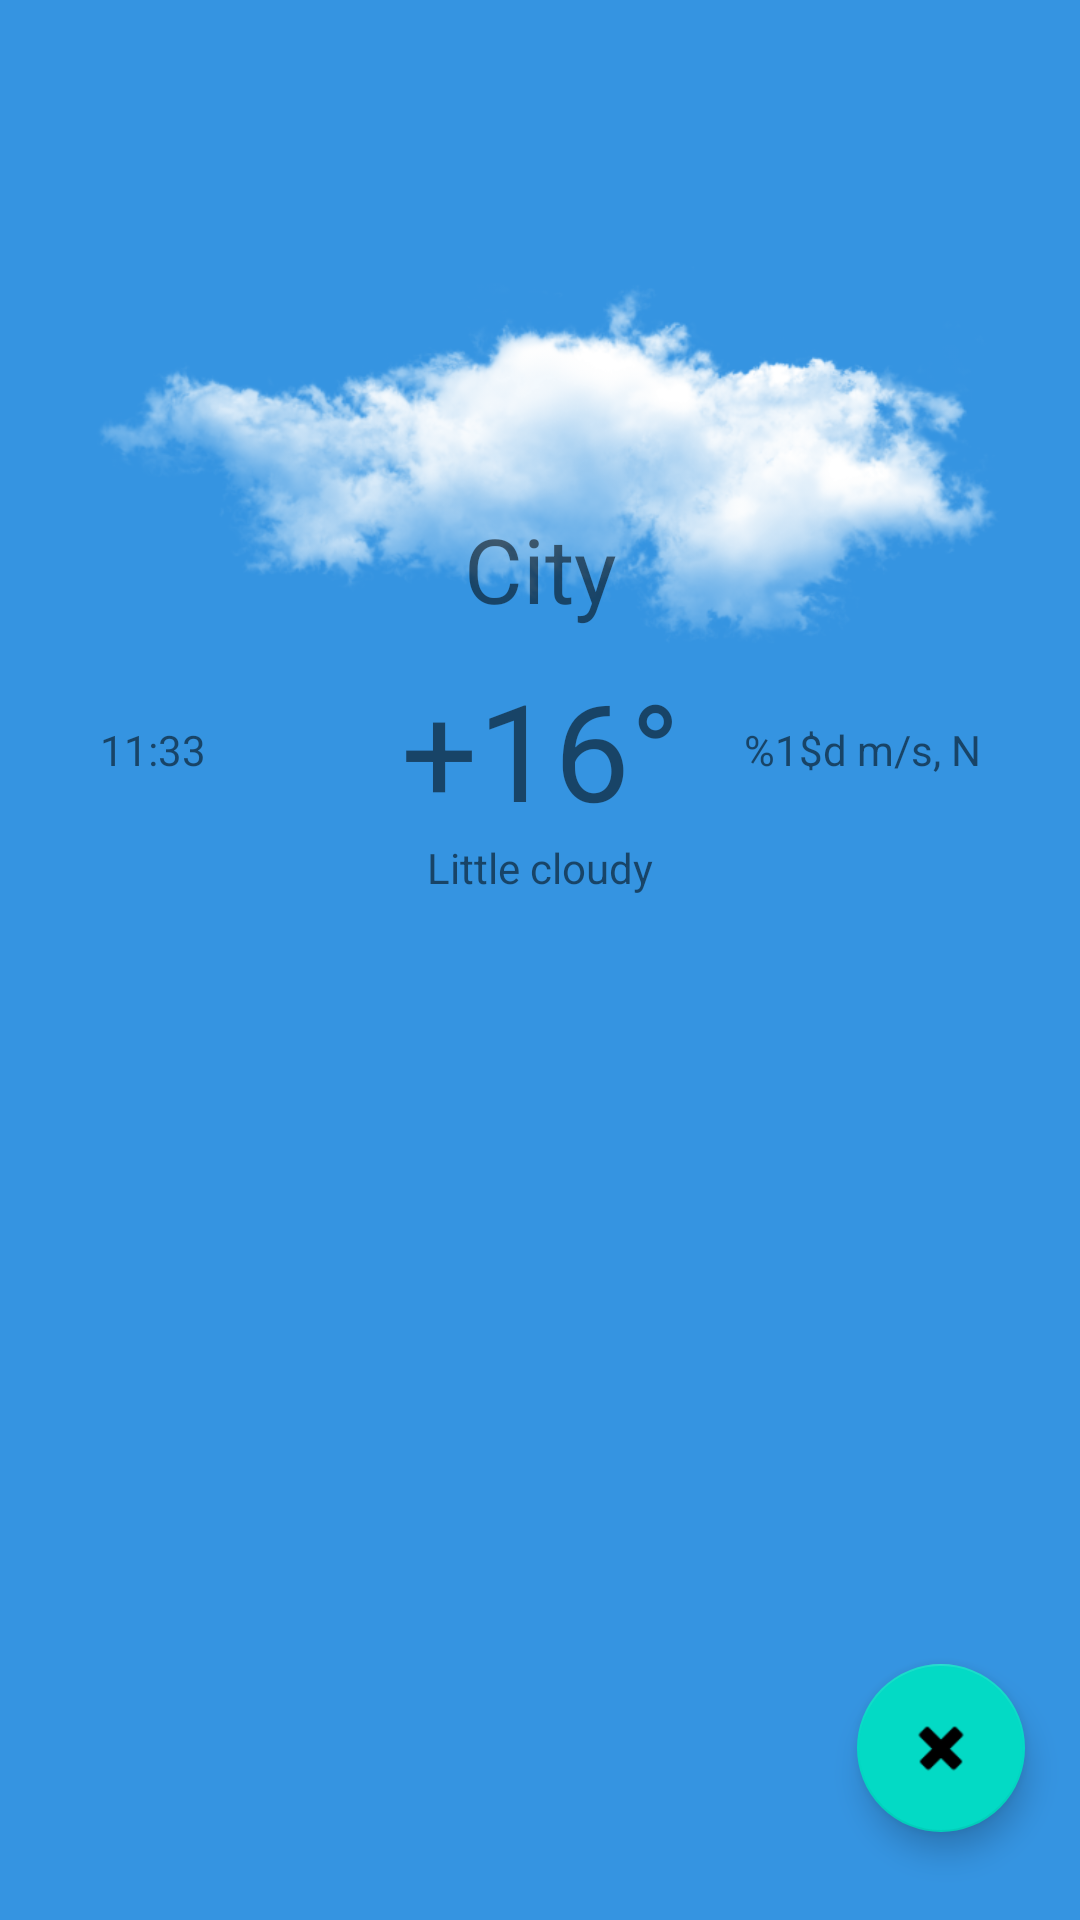

Icons on this 1080px x 1920px Android screen, each with its box as Rect(x1, y1, x2, y2):
delete: Rect(857, 1664, 1025, 1832)
